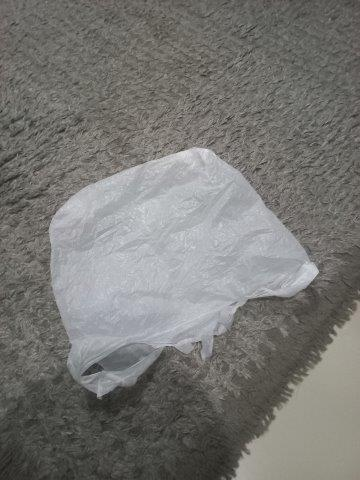plastik: (51, 149, 318, 400)
